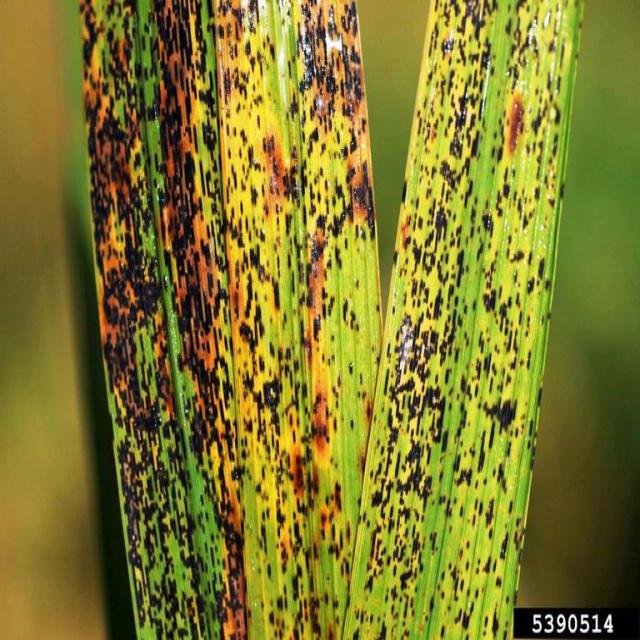healthy: (79, 0, 584, 640)
